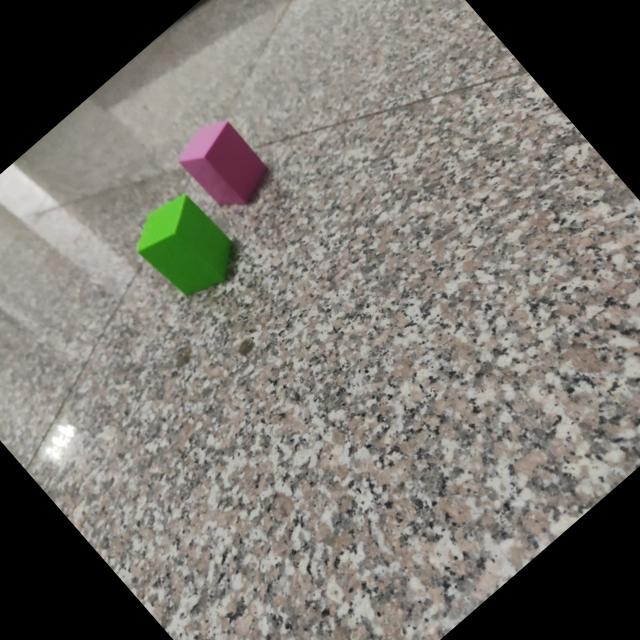green: (137, 195, 238, 298)
pink: (180, 119, 272, 208)
